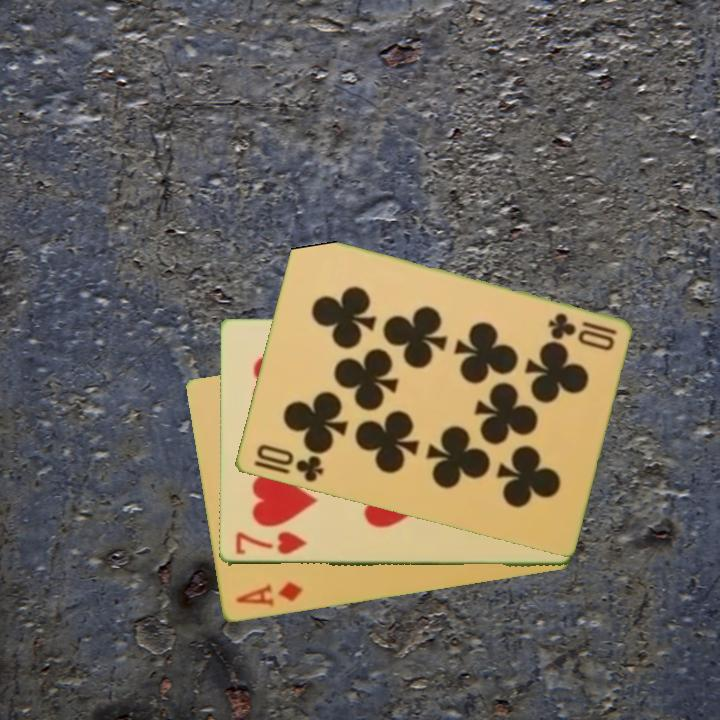10c: (252, 440, 326, 486), (544, 309, 619, 353)
7h: (232, 528, 310, 558)
Ad: (232, 578, 306, 610)
